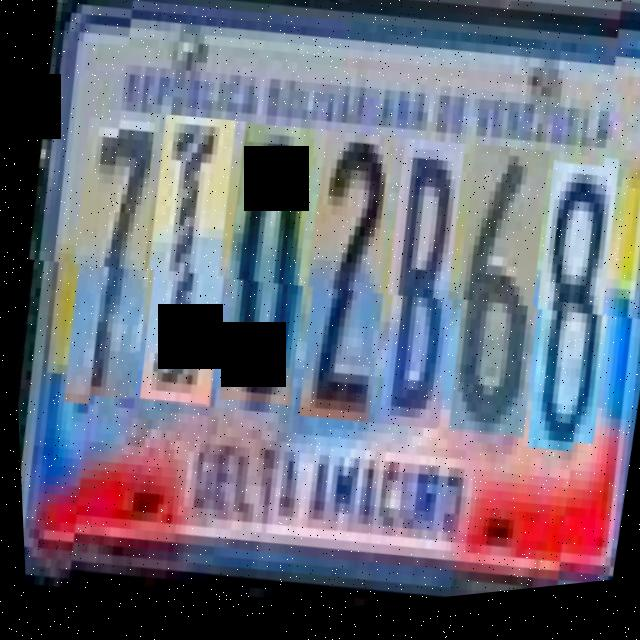2: (273, 131, 415, 436)
6: (422, 148, 570, 455)
7: (39, 103, 181, 408)
8: (501, 167, 638, 471)
B: (352, 142, 485, 444)
I: (114, 112, 256, 417)
O: (196, 122, 335, 416)
